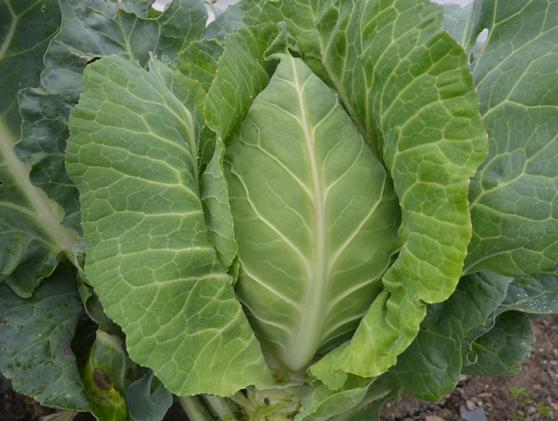cabbage: (102, 35, 496, 367)
